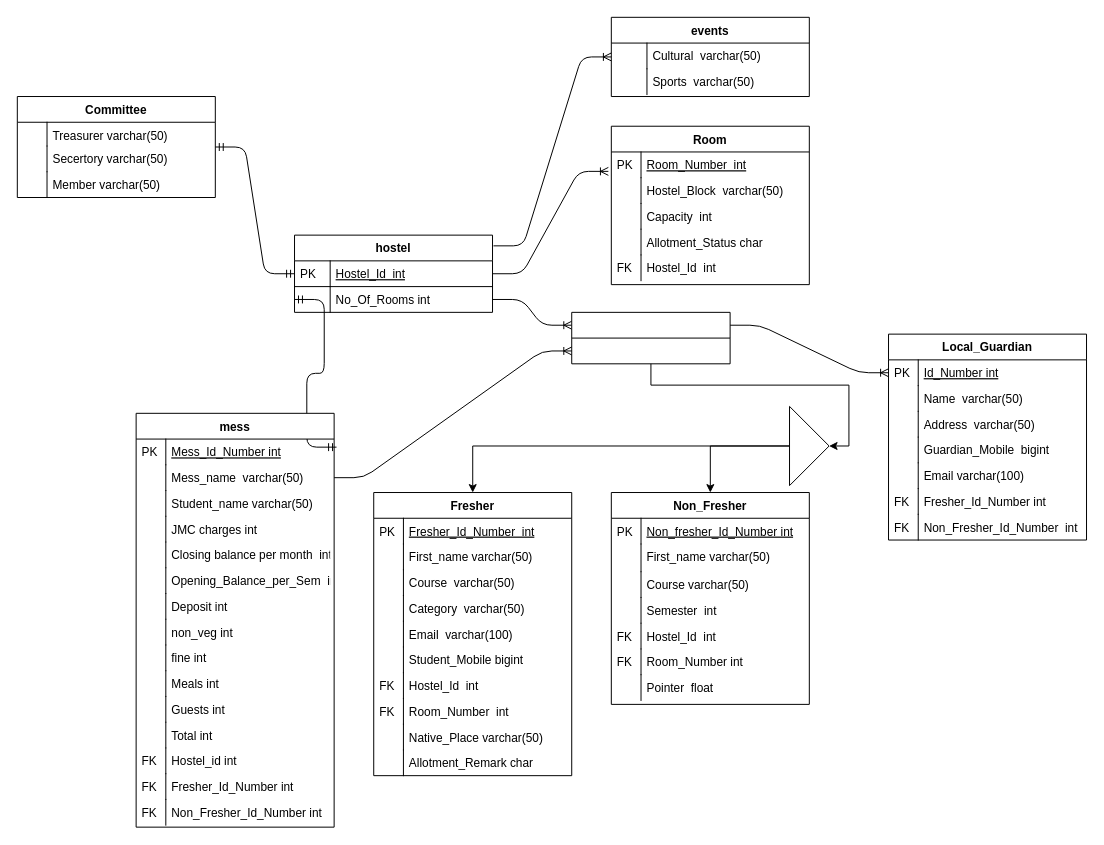
Image size: 1104x845. Some labels were removed from this diagram. The centre of each missing label's shape, as x and y in pixels:
"is" goes at [809,445].
"Student" goes at [650,337].
